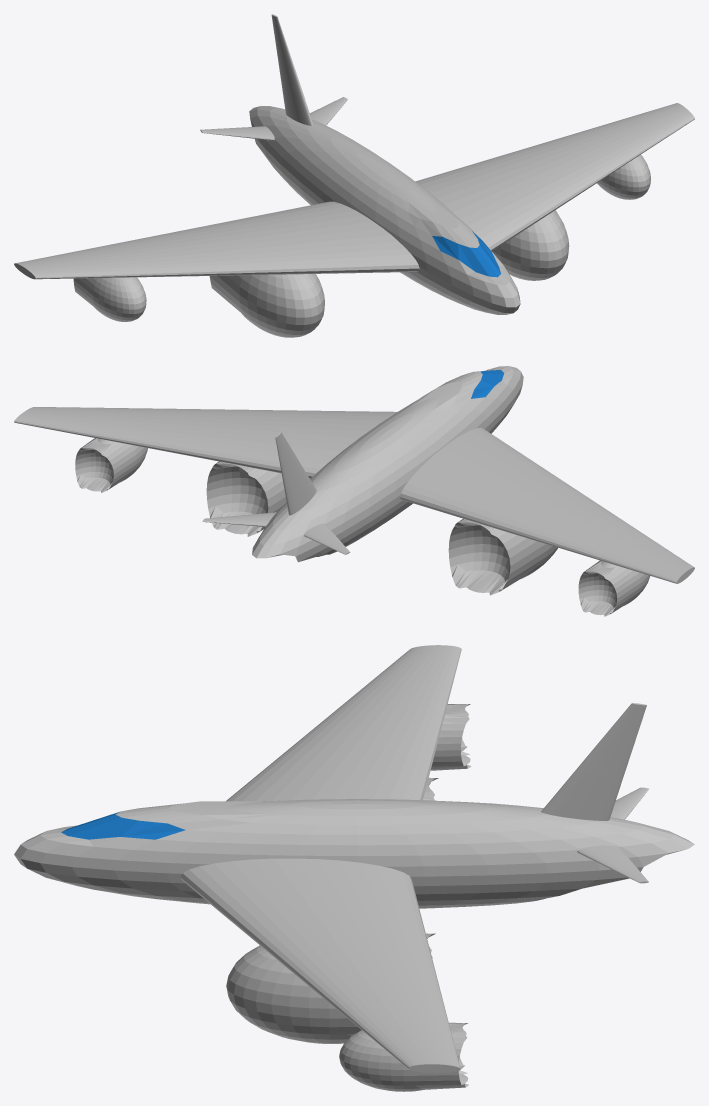
The model's file is planewithoutwheels.obj.
3 views of the same model, one above another, from view 1: azimuth 30°, elevation 25°; view 2: azimuth 150°, elevation 25°; view 3: azimuth 270°, elevation 25° (orthographic). The views are drawn at different scales.
Parts seen in each view (by area): view 1: Sphere_Sphere.001, Cylinder, Cylinder.001_Cylinder.002, Sphere.002_Sphere.005, Sphere.001_Sphere.002, Sphere.004_Sphere.006, Cylinder.002_Cylinder.003, Sphere.003_Sphere.004, Cylinder.004_Cylinder.005; view 2: Sphere_Sphere.001, Cylinder, Cylinder.001_Cylinder.002, Sphere.002_Sphere.005, Sphere.001_Sphere.002, Sphere.003_Sphere.004, Sphere.004_Sphere.006, Cylinder.002_Cylinder.003, Cylinder.003_Cylinder.004, Cylinder.004_Cylinder.005; view 3: Sphere_Sphere.001, Cylinder.001_Cylinder.002, Cylinder, Sphere.001_Sphere.002, Cylinder.002_Cylinder.003, Sphere.003_Sphere.004, Sphere.004_Sphere.006, Cylinder.003_Cylinder.004.
Boxes of the visible parts, x1,y1,x2,y2 form: Sphere_Sphere.001: [249, 106, 520, 314]; Cylinder: [14, 201, 419, 279]; Cylinder.001_Cylinder.002: [415, 103, 694, 250]; Sphere.002_Sphere.005: [209, 274, 324, 337]; Sphere.001_Sphere.002: [492, 210, 569, 280]; Sphere.004_Sphere.006: [73, 277, 146, 321]; Cylinder.002_Cylinder.003: [271, 14, 313, 125]; Sphere.003_Sphere.004: [597, 154, 650, 199]; Cylinder.004_Cylinder.005: [200, 126, 274, 140]; Sphere_Sphere.001: [252, 366, 523, 562]; Cylinder: [400, 427, 694, 583]; Cylinder.001_Cylinder.002: [14, 407, 396, 478]; Sphere.002_Sphere.005: [448, 518, 557, 595]; Sphere.001_Sphere.002: [206, 461, 286, 536]; Sphere.003_Sphere.004: [75, 438, 147, 492]; Sphere.004_Sphere.006: [578, 560, 650, 616]; Cylinder.002_Cylinder.003: [275, 432, 316, 515]; Cylinder.003_Cylinder.004: [202, 512, 276, 526]; Cylinder.004_Cylinder.005: [304, 523, 350, 554]; Sphere_Sphere.001: [14, 799, 694, 908]; Cylinder.001_Cylinder.002: [180, 858, 460, 1073]; Cylinder: [226, 645, 461, 801]; Sphere.001_Sphere.002: [226, 933, 435, 1043]; Cylinder.002_Cylinder.003: [541, 703, 646, 820]; Sphere.003_Sphere.004: [339, 1022, 468, 1091]; Sphere.004_Sphere.006: [430, 704, 471, 770]; Cylinder.003_Cylinder.004: [577, 845, 648, 883].
Size of the model in its own units: 31.61 by 9.08 by 21.71.
